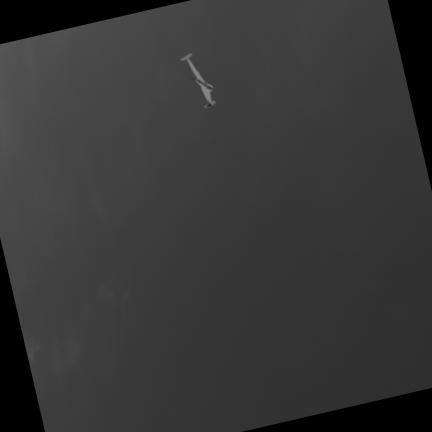Shahed: (181, 54, 215, 107)
